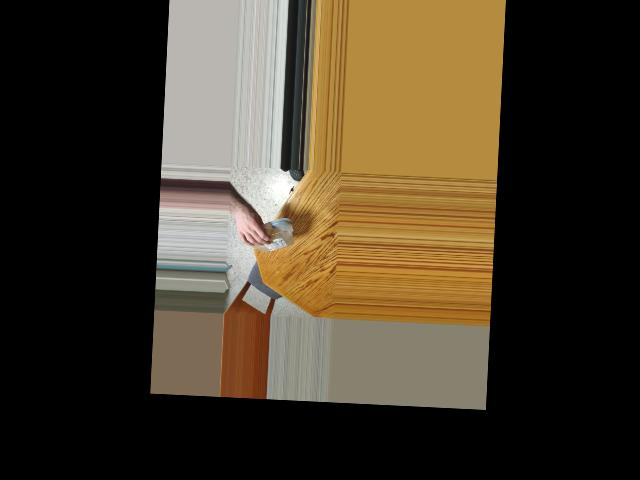cheese: (251, 218, 291, 254)
